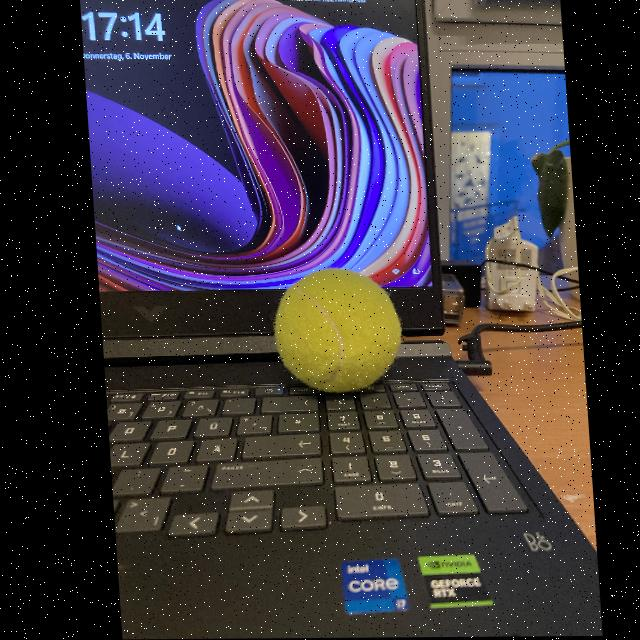Tennisball: (274, 269, 401, 392)
